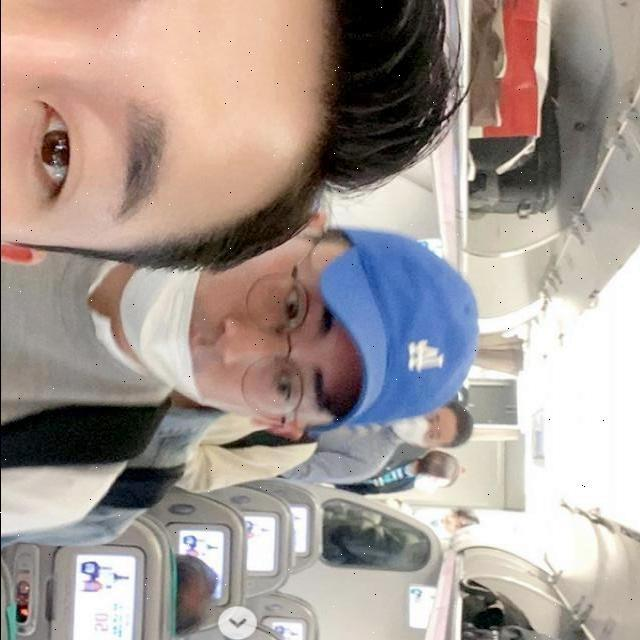hairnet: (115, 250, 282, 406)
no_hairnet: (421, 353, 422, 359)
